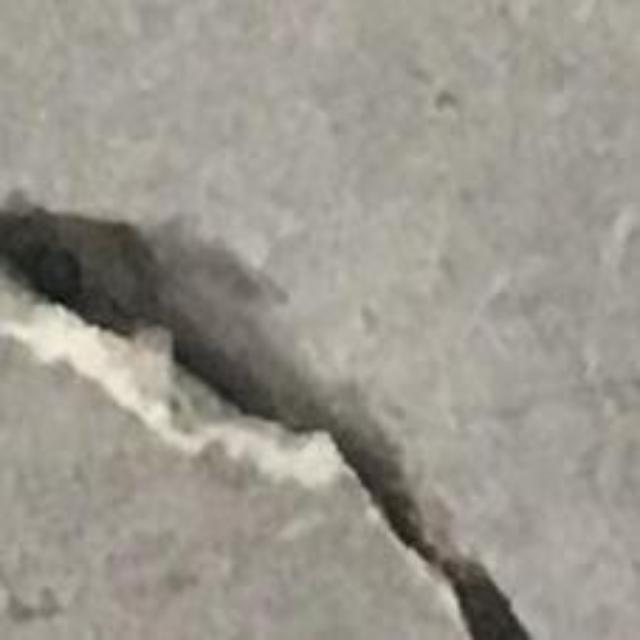crack: (0, 198, 532, 639)
